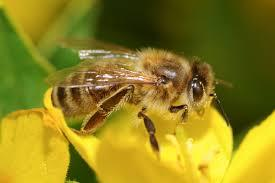Apis-mellifera-scutellata: (44, 34, 239, 146)
